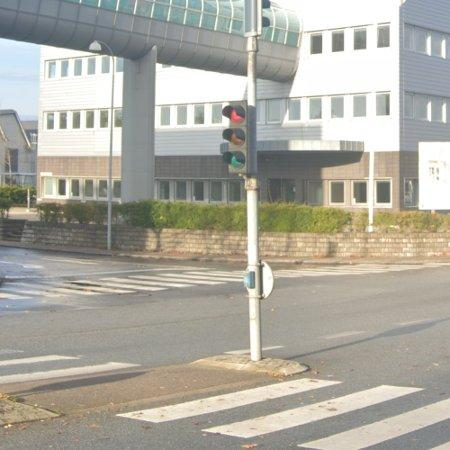crosswalks: (0, 268, 244, 307)
